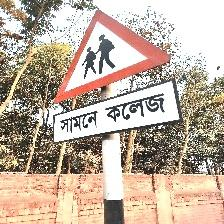College-in-front: (48, 0, 182, 140)
